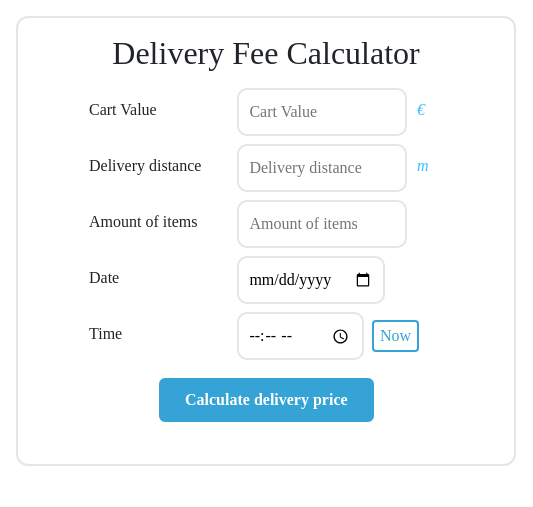
DeliveryFeeCalculator component › Input values are invalid (negative or 0)
Type "-10" into the number field with test id "input-group" showing "Cart Value" at point(322, 112), box top-left (237, 88), bottom-right (407, 136)
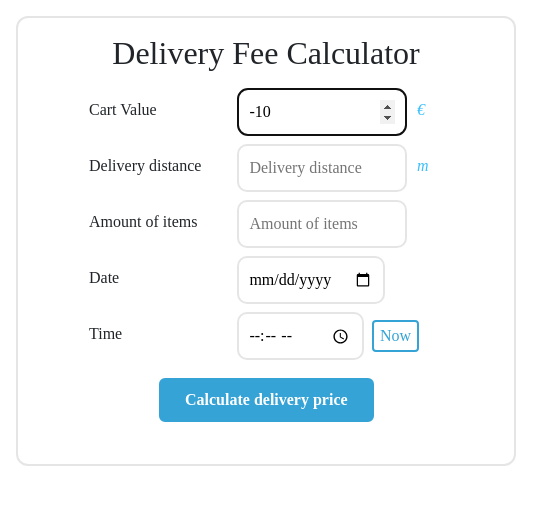
Type "0" into the number field with test id "input-group" showing "Delivery distance" at point(322, 168), box top-left (237, 144), bottom-right (407, 192)
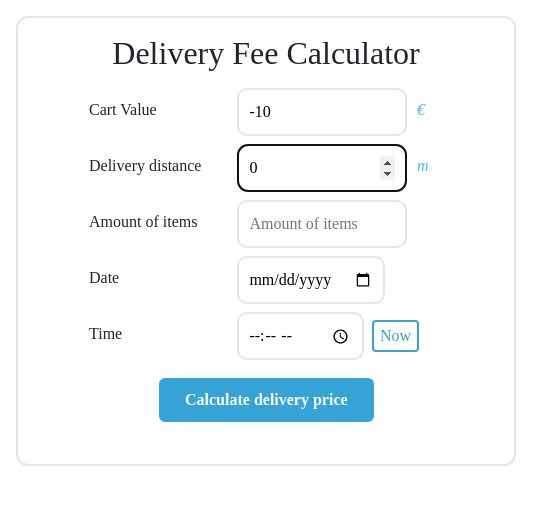
Type "-2" into the number field with test id "input-group" showing "Amount of items" at point(322, 224), box top-left (237, 200), bottom-right (407, 248)
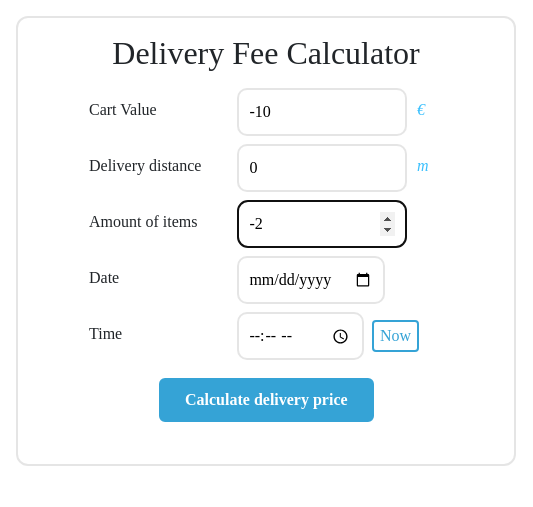
Type "1900-01-01" into the date field with test id "input-group" showing "Date" at point(311, 280), box top-left (237, 256), bottom-right (385, 304)
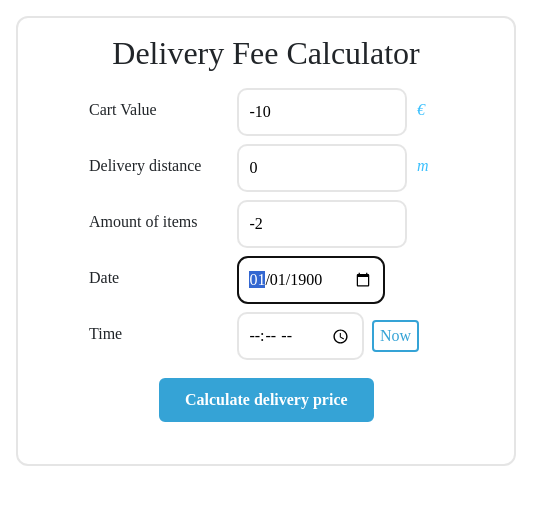
Type "10:00" into the time field with test id "input-group" showing "Time" at point(301, 336), box top-left (237, 312), bottom-right (364, 360)
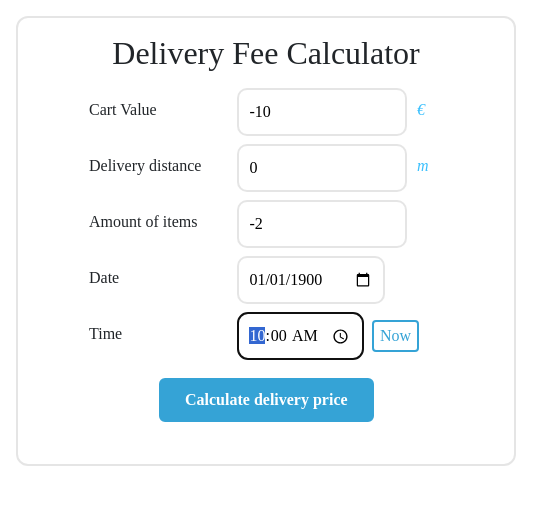
Click the button "Calculate delivery price" at point(266, 400), box top-left (159, 378), bottom-right (373, 422)
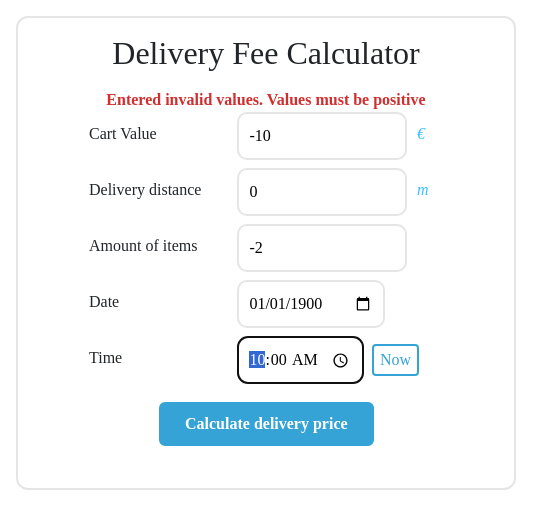
Expected: the text "Entered invalid values. Values must be positive" is shown, top-left (106, 91), bottom-right (426, 108)
